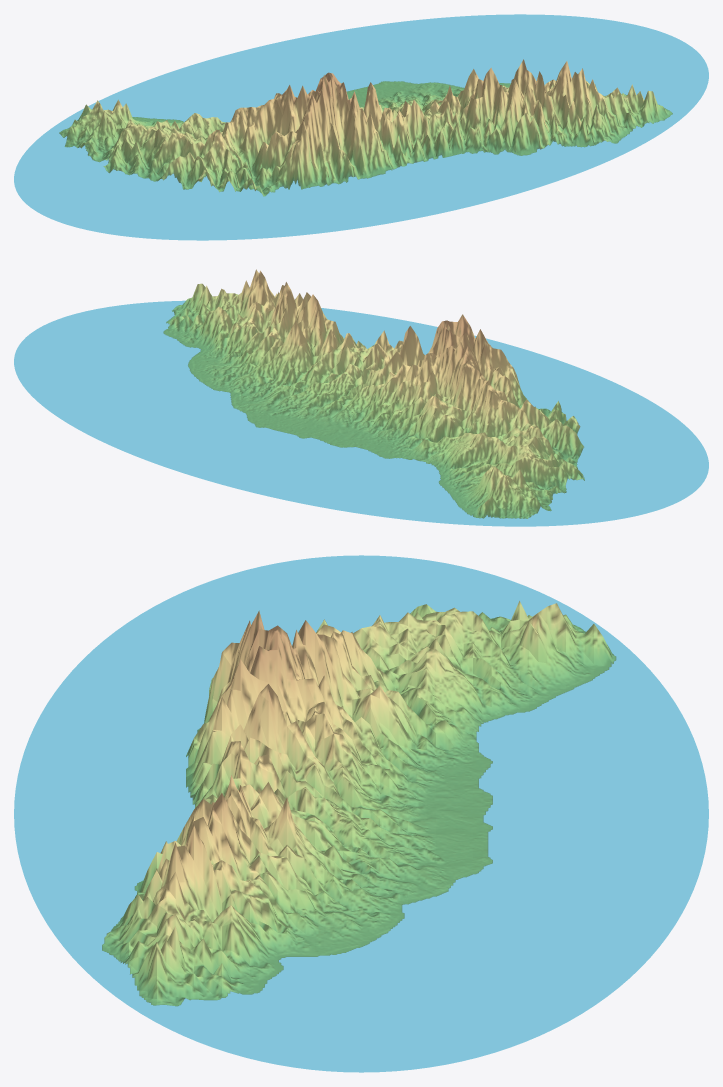
Rendered from SLB-terrain.glb.
The picture shows the model from 3 angles, top to bottom: view 1: azimuth 30°, elevation 25°; view 2: azimuth 150°, elevation 25°; view 3: azimuth 270°, elevation 25°; orthographic projection. The views are drawn at different scales.
Parts seen in each view (by area): view 1: Relevo com hidrografia; view 2: Relevo com hidrografia; view 3: Relevo com hidrografia.
Boxes of the visible parts, left/top/right/bottom form: Relevo com hidrografia: left=14, top=14, right=708, bottom=240; Relevo com hidrografia: left=14, top=269, right=708, bottom=526; Relevo com hidrografia: left=14, top=555, right=708, bottom=1072.
Bounding box in the file's own units: 2.17 × 0.2917 × 1.23.
Materials: 2 (1 with a texture image).
